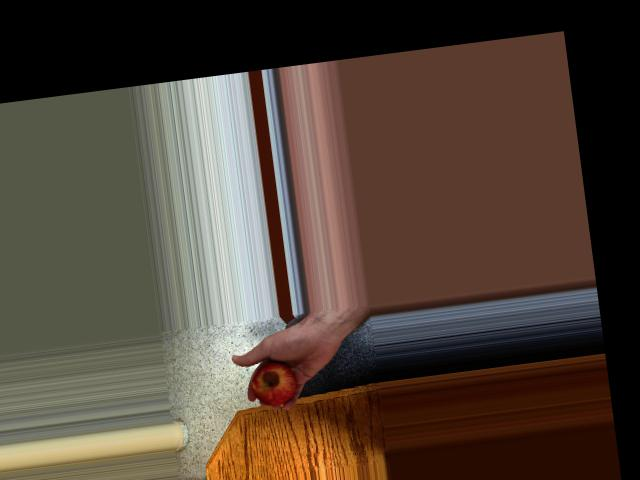apple: (245, 353, 305, 407)
